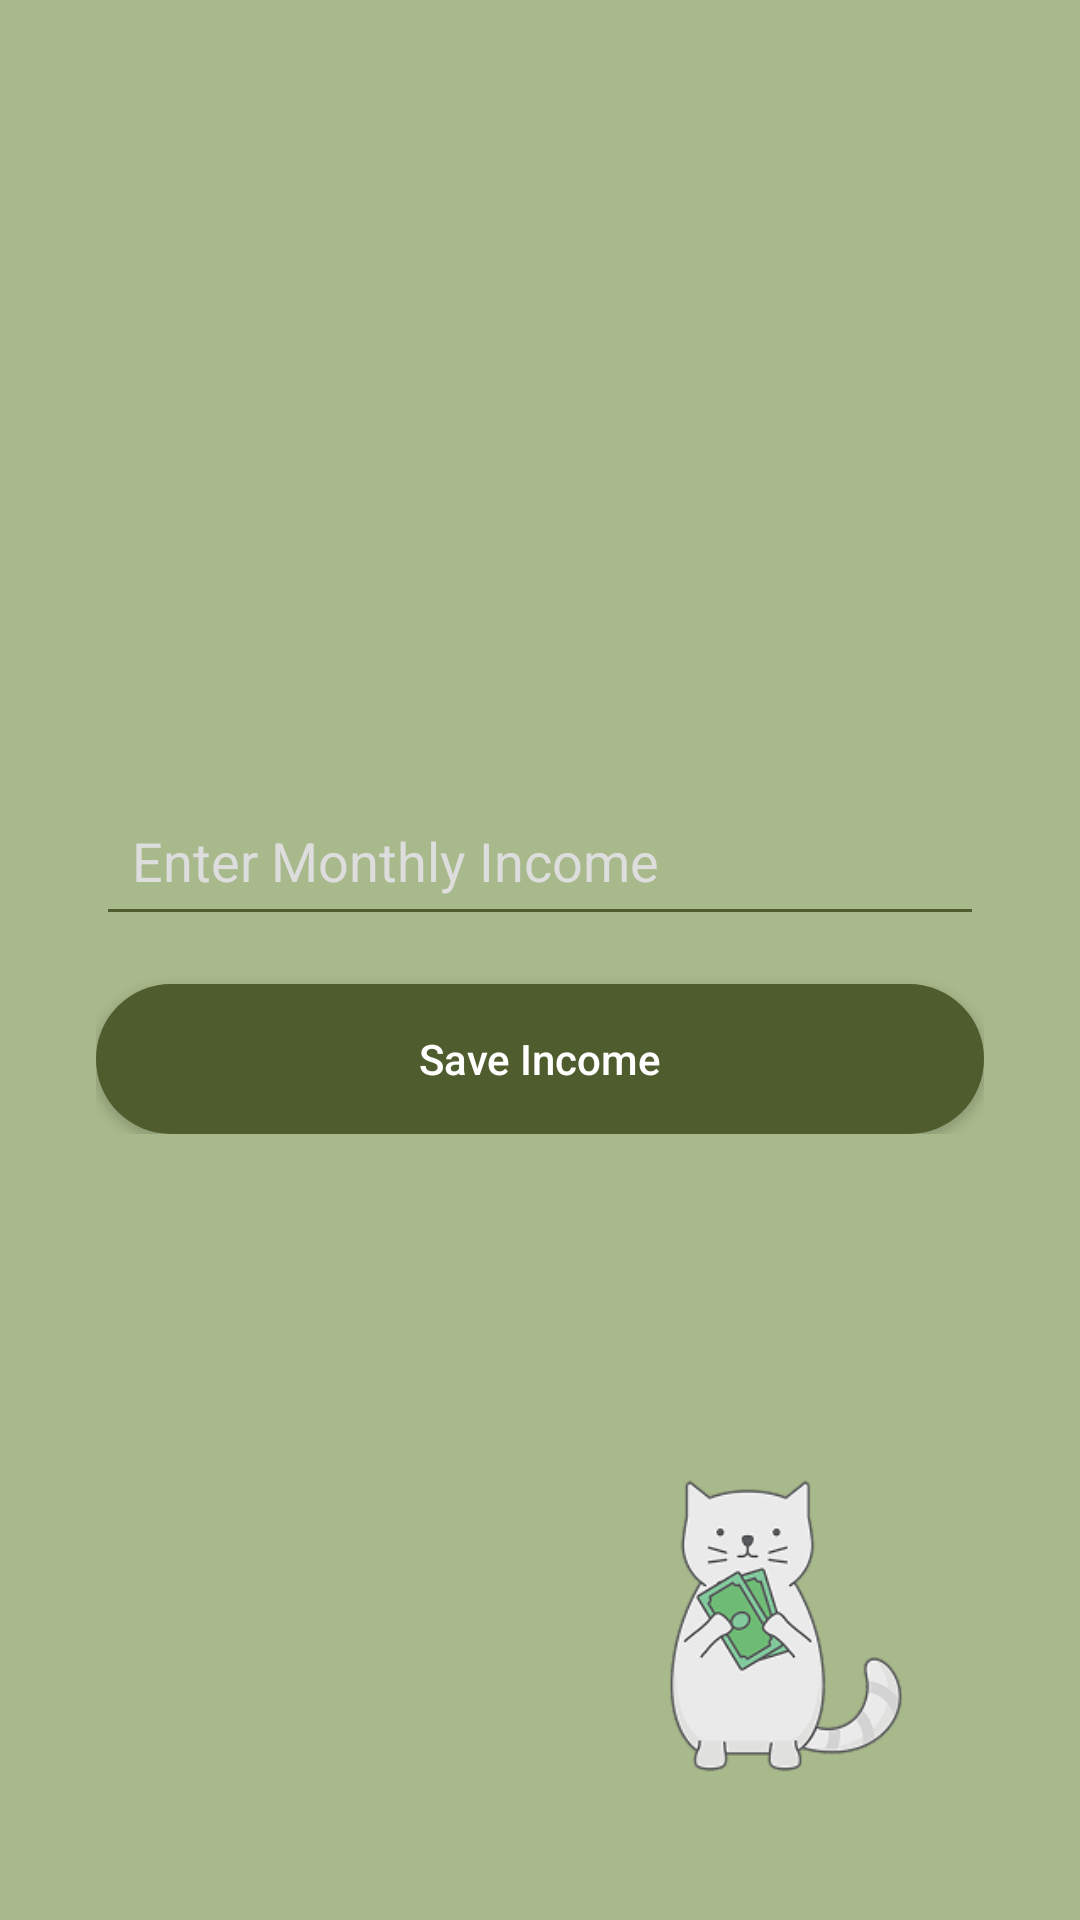

Where icons sit on this 1080x1920 app screen, as (x1, y1, x2, y2):
cat: (670, 1481, 902, 1771)
